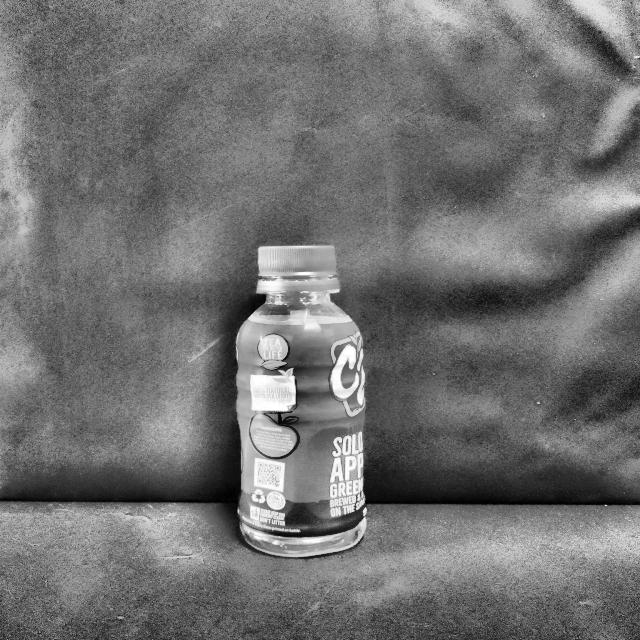Plastic-Bottle: (232, 242, 376, 562)
